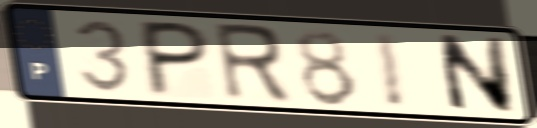3: (67, 17, 133, 95)
8: (293, 26, 362, 108)
I: (369, 30, 409, 110)
N: (432, 32, 518, 116)
P: (140, 17, 213, 99)
R: (210, 21, 296, 107)
